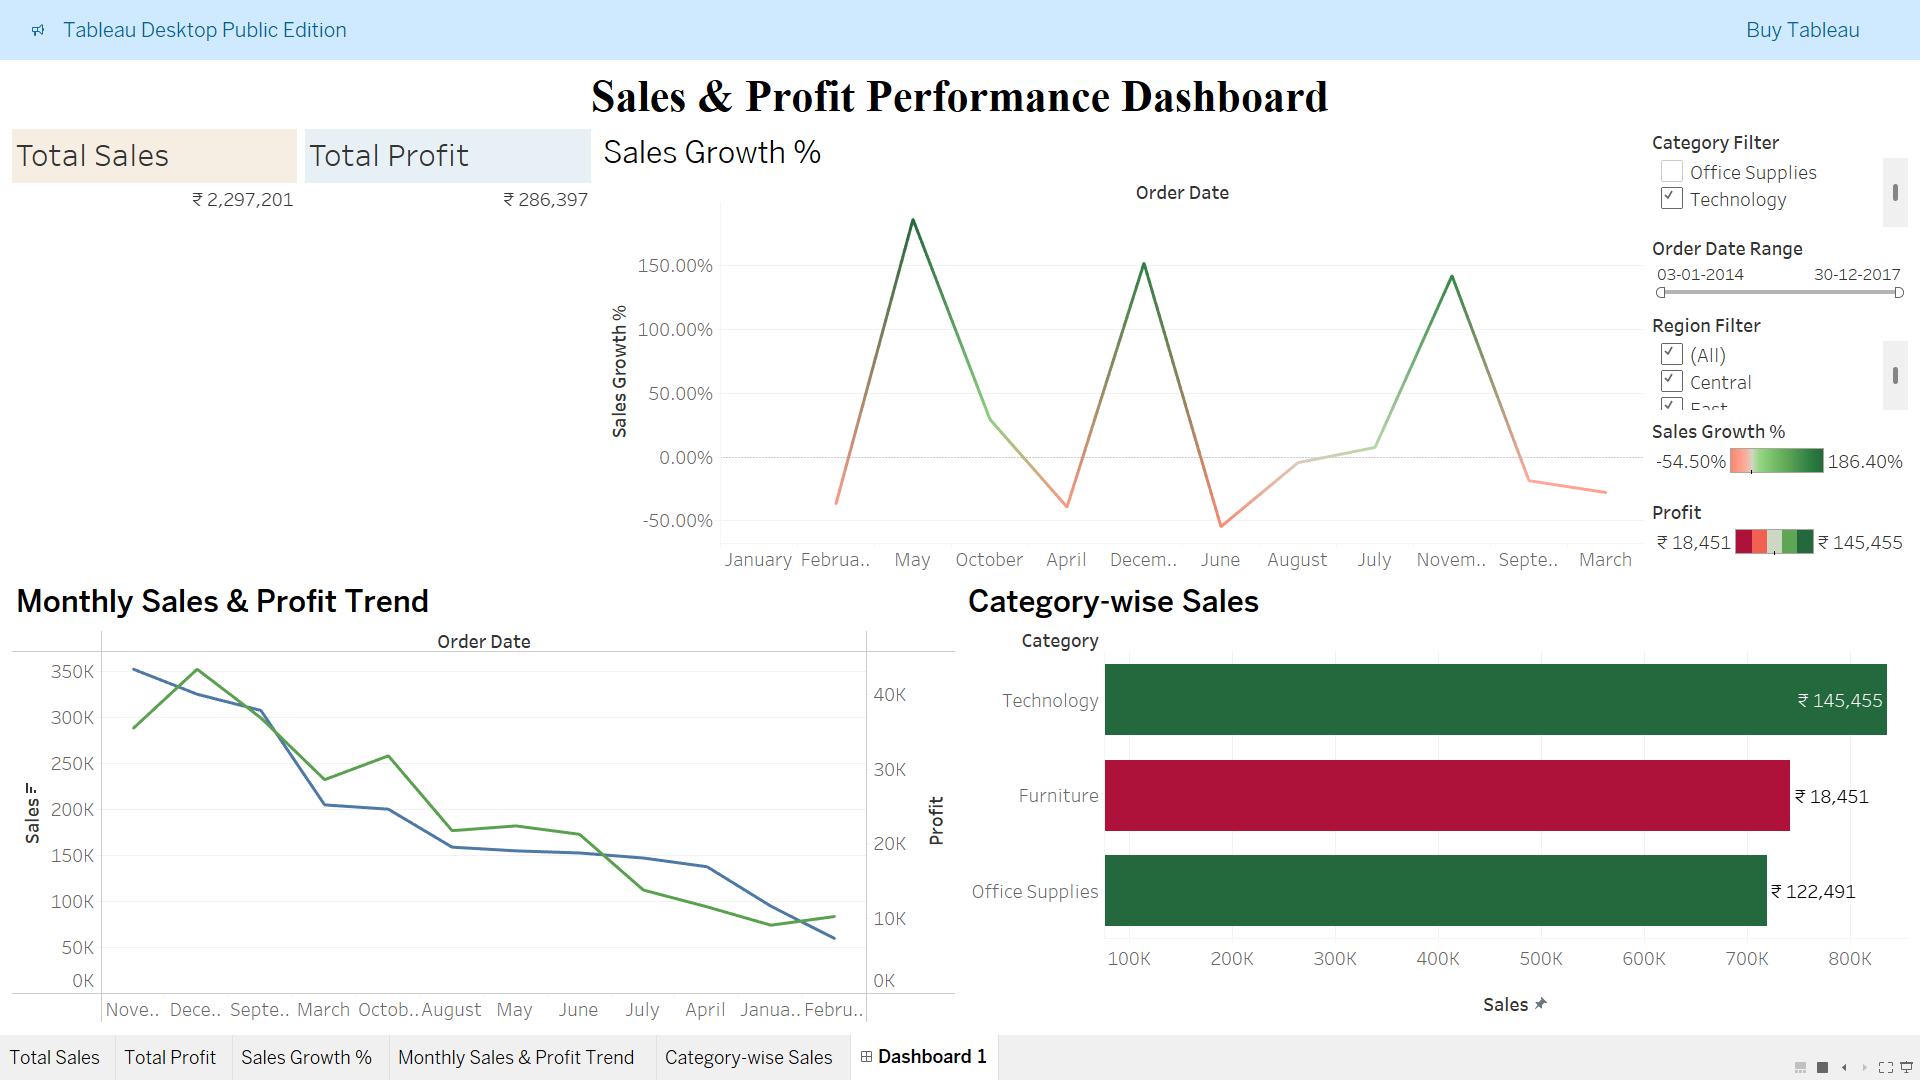

What the dashboard file says about the page in this screenshot:
{"tool":"tableau","page":{"name":"Dashboard 1","canvas":[1000,1000],"units":"permille","ordinal":0},"visuals":[{"type":"title","box":[5,10.7,990,76.4]},{"type":"worksheet","title":"Total Sales","mark":"Text","box":[5,87.1,147.3,450.8]},{"type":"worksheet","title":"Total Profit","mark":"Text","box":[152.2,87.1,148.3,450.8]},{"type":"worksheet","title":"Sales Growth %","mark":"Line","rows":["Calculation_80783359233298433"],"cols":["Order Date"],"box":[300.6,87.1,529.9,450.8]},{"type":"filter","title":"Sales Growth %","param":"[federated.11iglf60g7zylw19psp4j01jb3w8].[none:Category:nk]","box":[830.4,87.1,164.6,90.2]},{"type":"filter","title":"Sales Growth %","param":"[federated.11iglf60g7zylw19psp4j01jb3w8].[none:Order Date:qk]","box":[830.4,177.3,164.6,90.2]},{"type":"filter","title":"Sales Growth %","param":"[federated.11iglf60g7zylw19psp4j01jb3w8].[none:Region:nk]","box":[830.4,267.4,164.6,90.2]},{"type":"legend","title":"Sales Growth %","param":"[federated.11iglf60g7zylw19psp4j01jb3w8].[usr:Calculation_80783359233298433:qk]","box":[830.4,357.6,164.6,90.2]},{"type":"legend","title":"Category-wise Sales","param":"[federated.11iglf60g7zylw19psp4j01jb3w8].[sum:Profit:qk]","box":[830.4,447.7,164.6,90.2]},{"type":"worksheet","title":"Monthly Sales & Profit Trend","mark":"Line","rows":["Sales","Profit"],"cols":["Order Date"],"box":[5,537.9,494.9,451.4]},{"type":"worksheet","title":"Category-wise Sales","mark":"Automatic","rows":["Category"],"cols":["Sales"],"box":[499.9,537.9,495.1,451.4]}]}

Visuals, with their boxes on the dashboard's canvas, which has no fixed pixel size, in thousandths of its width and height (x1, y1, x2, y2). These are canvas units, not pixel positions in the 1920x1080 screenshot, which may show the page scaled, cropped or inside an application window:
title: BBox(5, 11, 995, 87)
"Total Sales" worksheet (Text marks): BBox(5, 87, 152, 538)
"Total Profit" worksheet (Text marks): BBox(152, 87, 300, 538)
"Sales Growth %" worksheet (Line marks): BBox(301, 87, 830, 538)
"Sales Growth %" filter: BBox(830, 87, 995, 177)
"Sales Growth %" filter: BBox(830, 177, 995, 268)
"Sales Growth %" filter: BBox(830, 267, 995, 358)
"Sales Growth %" legend: BBox(830, 358, 995, 448)
"Category-wise Sales" legend: BBox(830, 448, 995, 538)
"Monthly Sales & Profit Trend" worksheet (Line marks): BBox(5, 538, 500, 989)
"Category-wise Sales" worksheet: BBox(500, 538, 995, 989)
